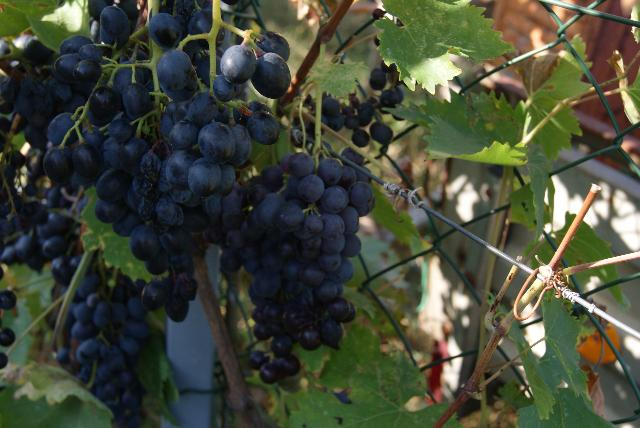grapes: (112, 4, 280, 320), (224, 152, 372, 382), (42, 5, 161, 228)
